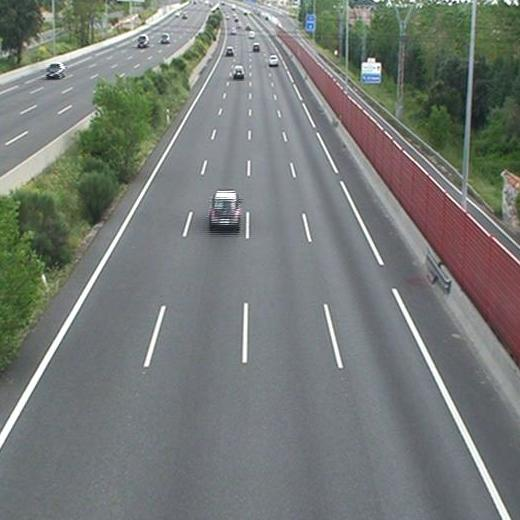car: (210, 192, 240, 225), (232, 66, 245, 77), (269, 55, 279, 64), (252, 43, 261, 53), (224, 47, 233, 56)
